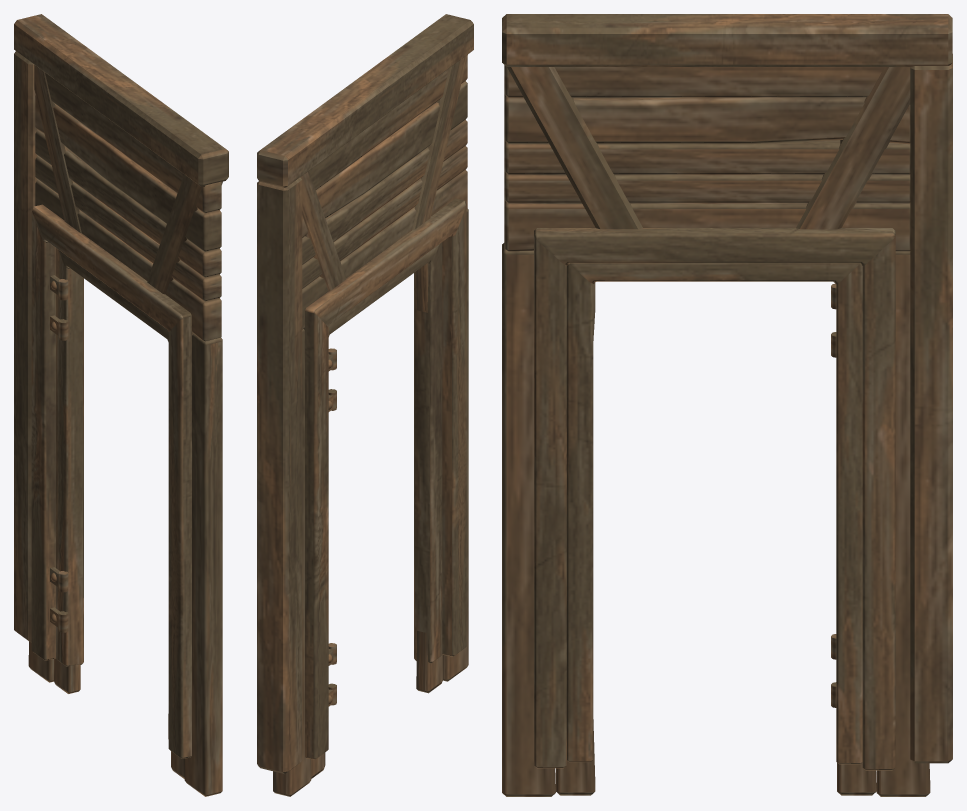
The model's file is SM_wall_wood_05.fbx.
The picture shows the model from 3 angles, left to right: view 1: azimuth 30°, elevation 25°; view 2: azimuth 150°, elevation 25°; view 3: azimuth 270°, elevation 25°; orthographic projection. The views are drawn at different scales.
Visible parts, largest first — view 1: SM_wall_wood_05_LOD0; view 2: SM_wall_wood_05_LOD0; view 3: SM_wall_wood_05_LOD0.
Boxes of the visible parts, x1=… form: SM_wall_wood_05_LOD0: x1=14, y1=14, x2=228, y2=796; SM_wall_wood_05_LOD0: x1=257, y1=14, x2=473, y2=796; SM_wall_wood_05_LOD0: x1=502, y1=14, x2=952, y2=796.
Size of the model in its own units: 26.73 by 212 by 400.
2 materials, 2 textured.
